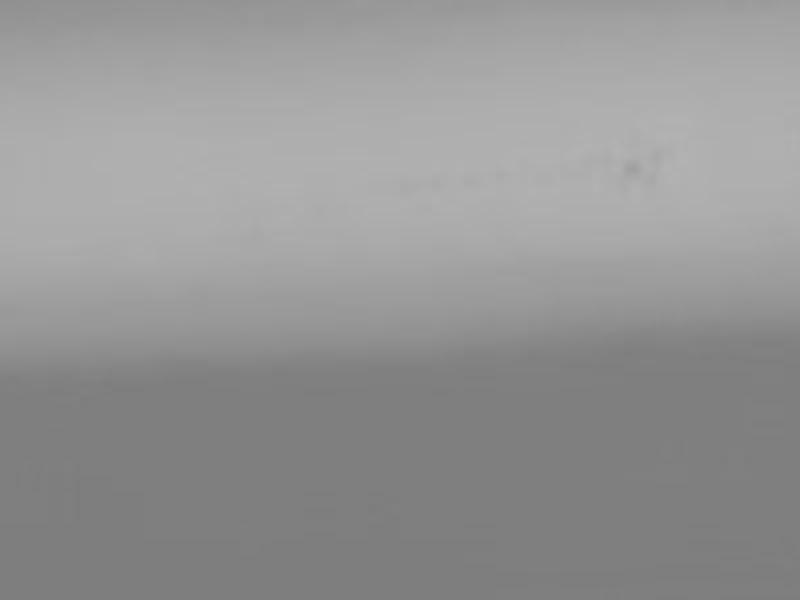defect: (646, 145, 668, 166), (639, 169, 658, 193), (618, 158, 640, 177)
